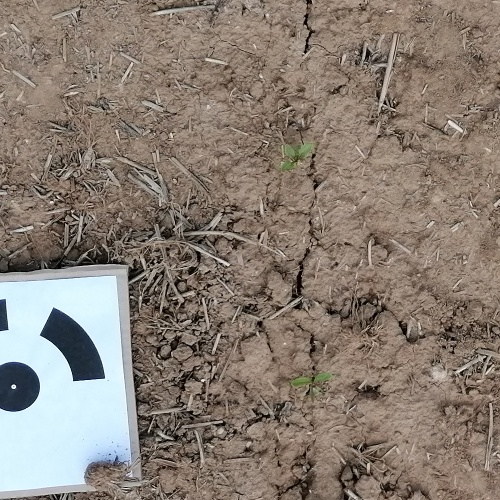beet: (290, 374, 332, 393), (282, 144, 311, 171)
